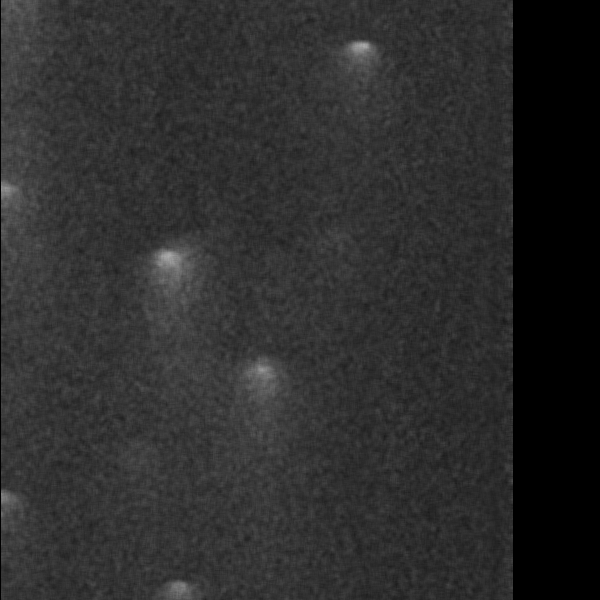spark: (34, 13, 109, 79), (22, 192, 82, 227), (479, 350, 512, 393), (406, 18, 446, 49), (1, 266, 36, 297), (40, 364, 63, 398)
